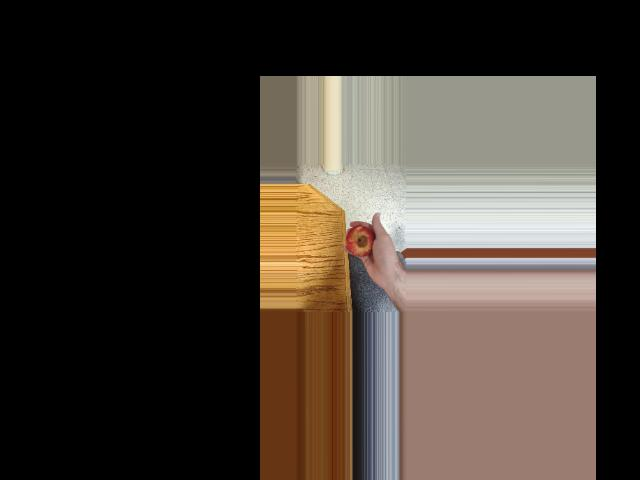apple: (345, 223, 376, 262)
